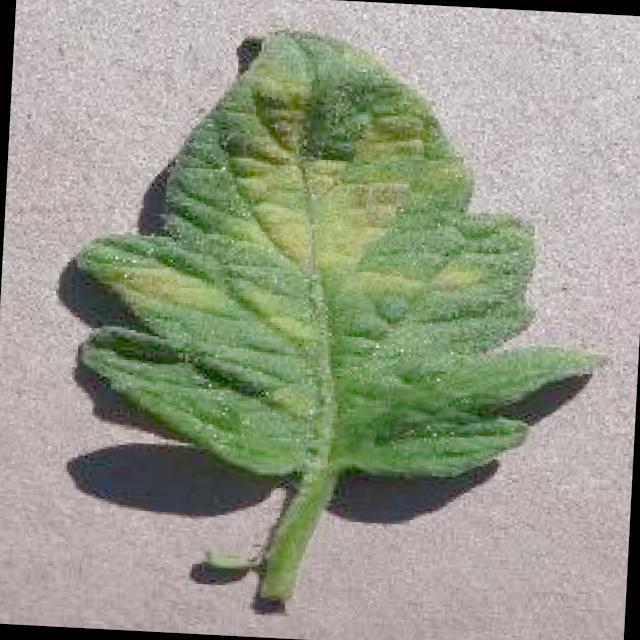Tomato mold leaf: (66, 18, 627, 494)
